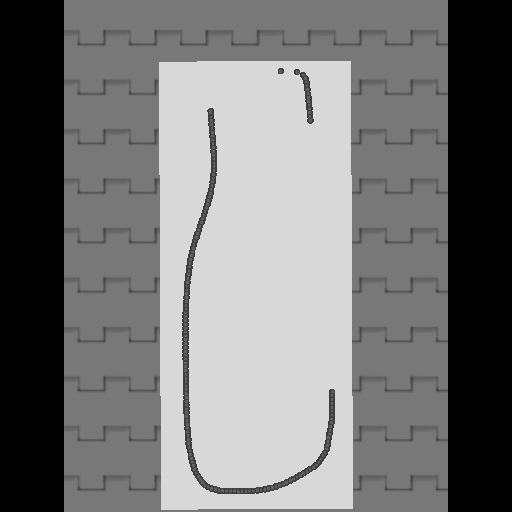Defect: (300, 111, 336, 390)
